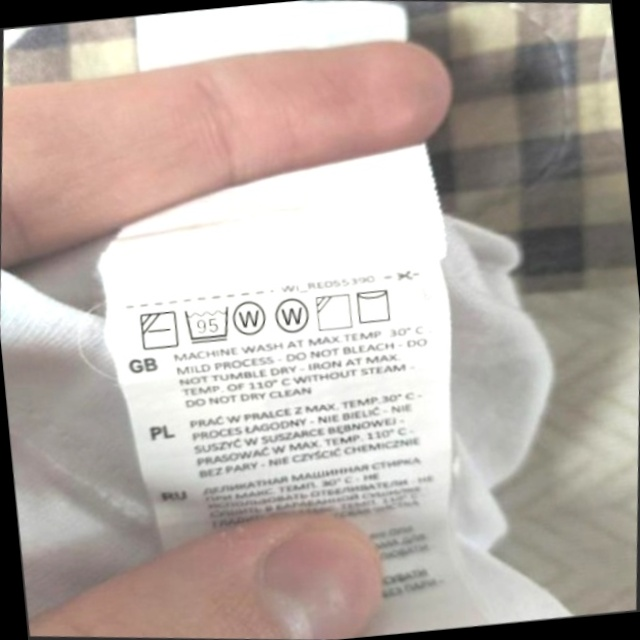95C: (178, 297, 238, 351)
dry_flat_in_shade: (132, 303, 185, 357)
line_dry: (349, 280, 400, 331)
shade_dry: (309, 286, 360, 338)
wet_clean: (268, 291, 317, 342), (227, 291, 275, 343)
